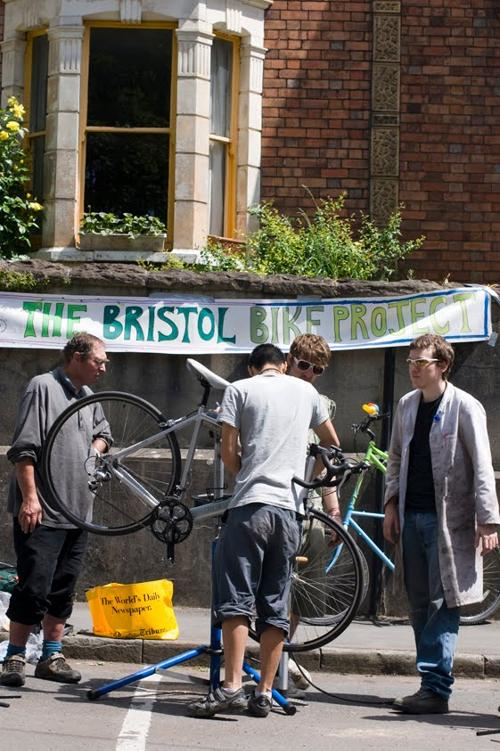person: (191, 335, 344, 719)
